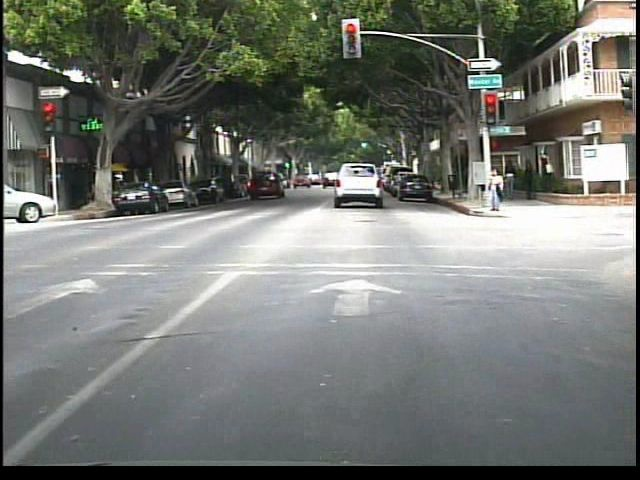person: (482, 166, 506, 215), (502, 158, 520, 204), (520, 158, 538, 204), (536, 150, 554, 192)
